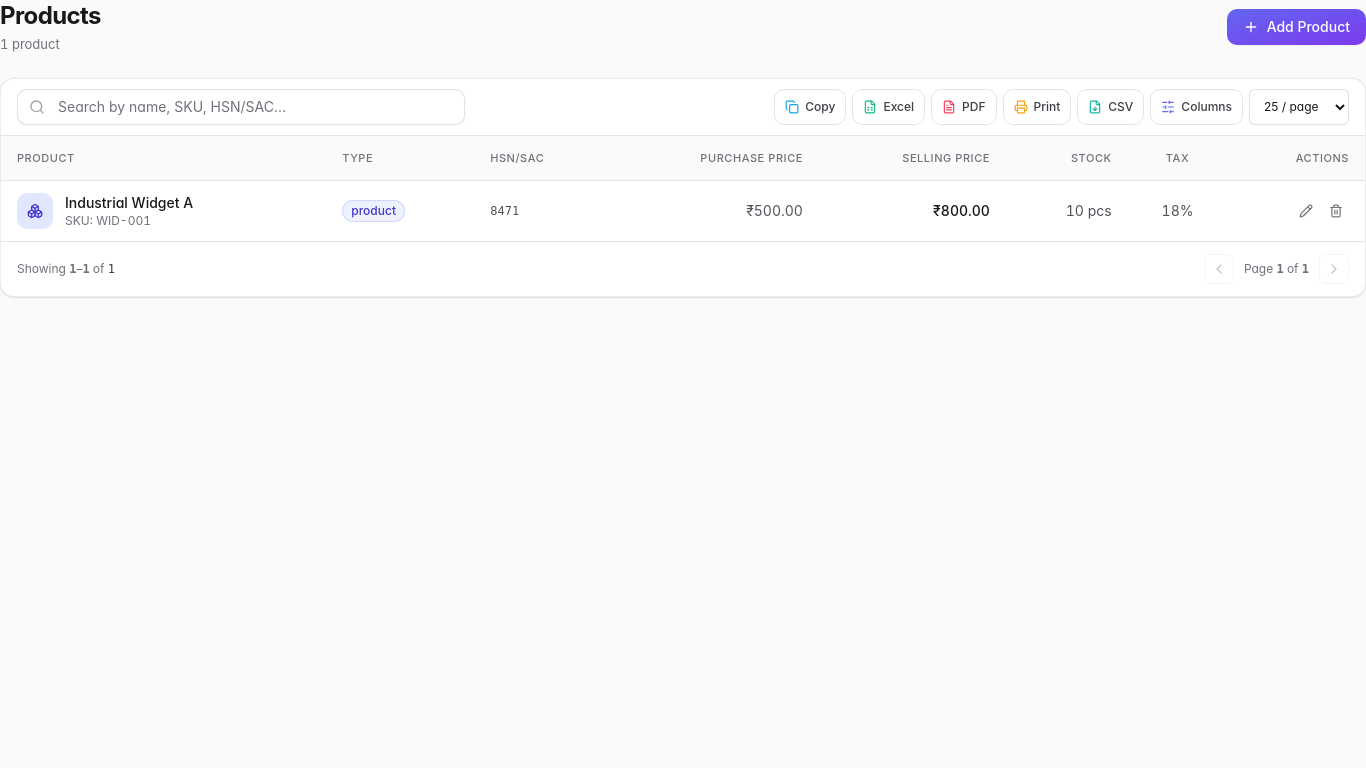
Test case: ProductsPage Delete Action › opens confirmation modal with "Delete Product?" title and permanent delete text
This screenshot has width=1366, height=768.
Expected: the text "Industrial Widget A" is shown, x1=65 y1=193 x2=193 y2=213
Click the button titled "Delete product" at point(1336, 211), box x1=1323 y1=198 x2=1349 y2=224
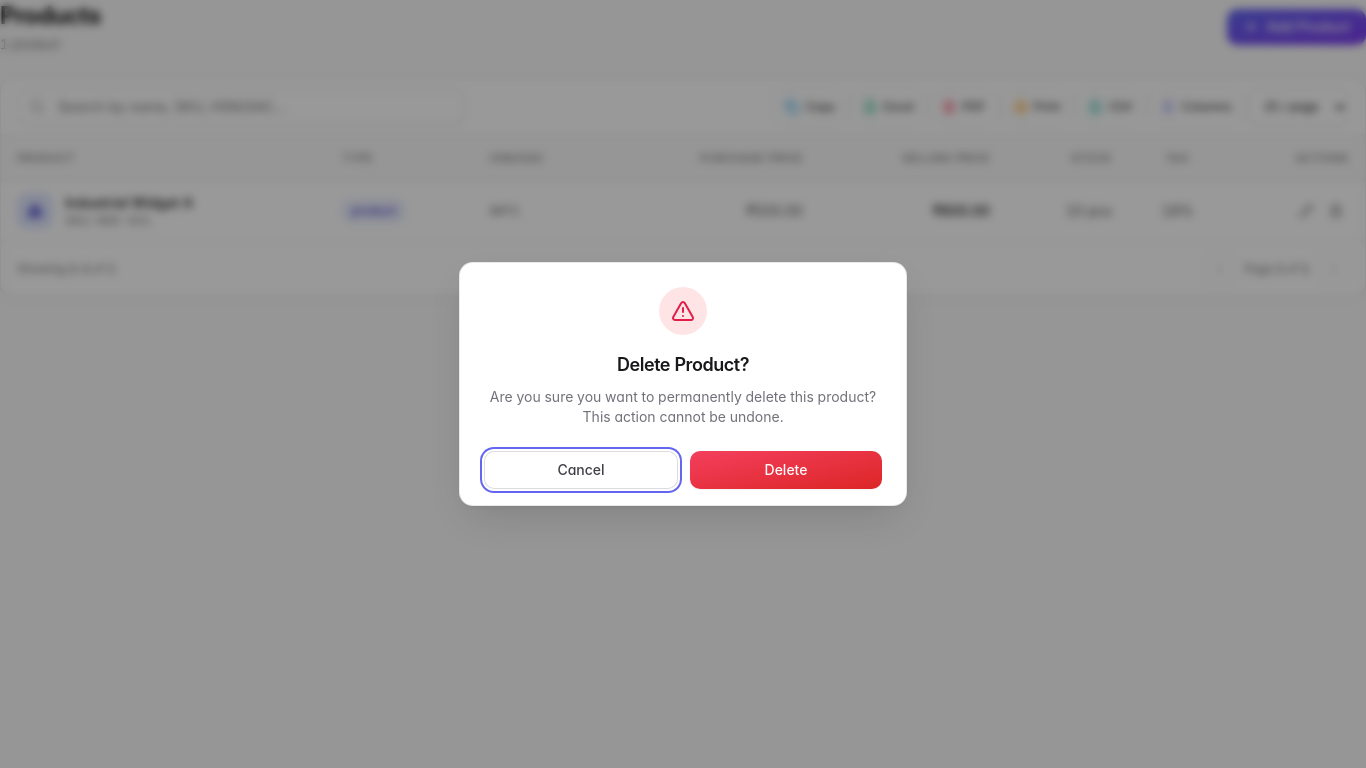
Expected: the heading "Delete Product?" is shown, x1=617 y1=351 x2=749 y2=379
Expected: the text "Are you sure you want to permanently delete this product? This action cannot be undone." is shown, x1=490 y1=388 x2=876 y2=425
Note: Cancel closes dialog without deleting
Click the button "Cancel" at point(581, 470), box x1=484 y1=451 x2=678 y2=489
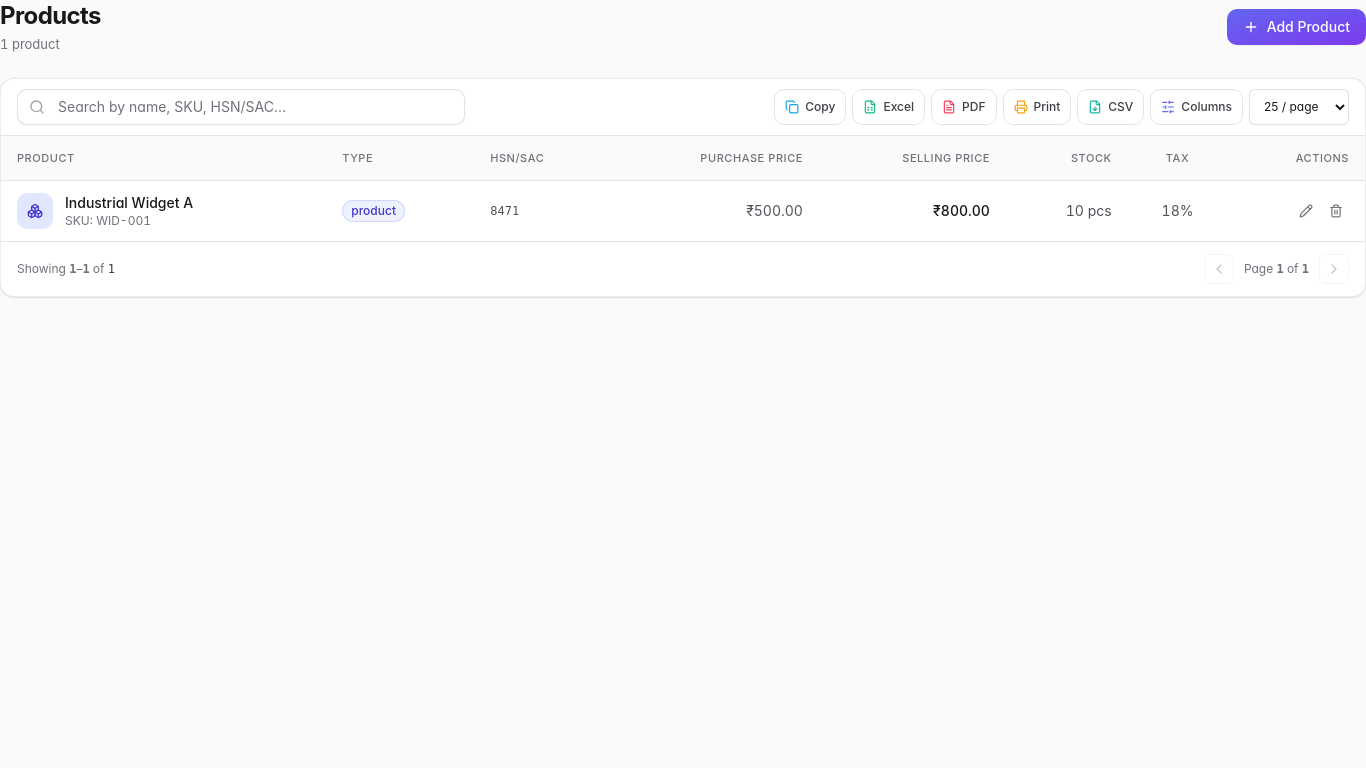
Expected: the heading "Delete Product?" is gone
